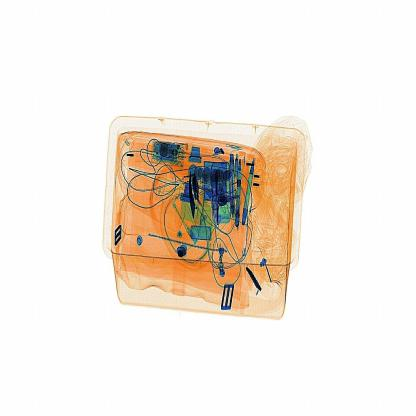knife: (208, 168, 223, 230)
